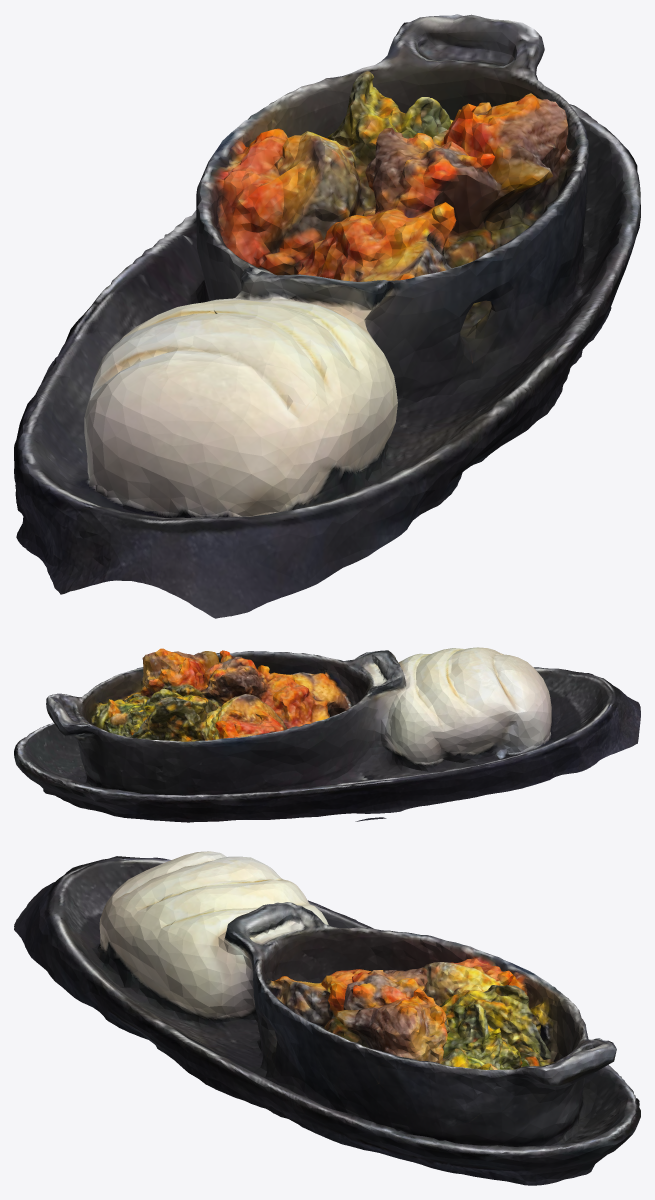
The model's file is Pounded yam and Efo riro with assorted meat.glb.
The picture shows the model from 3 angles, top to bottom: view 1: azimuth 30°, elevation 25°; view 2: azimuth 150°, elevation 25°; view 3: azimuth 270°, elevation 25°; orthographic projection. The views are drawn at different scales.
Parts seen in each view (by area): view 1: Mesh_0.003; view 2: Mesh_0.003; view 3: Mesh_0.003.
Boxes of the visible parts, x1,y1,x2,y2 form: Mesh_0.003: (14, 14, 640, 618); Mesh_0.003: (14, 647, 640, 822); Mesh_0.003: (14, 851, 640, 1185).
Size of the model in its own units: 0.308 by 0.0688 by 0.2861.
Materials: 1 (1 with a texture image).
